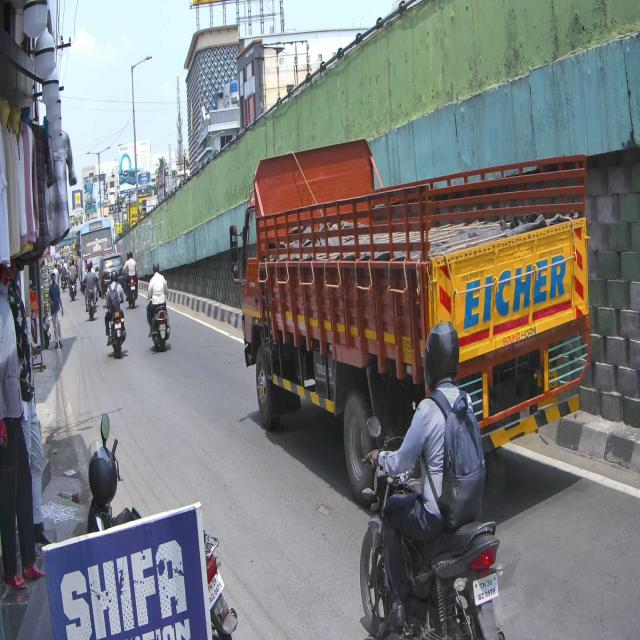single_rider: (359, 320, 504, 640)
